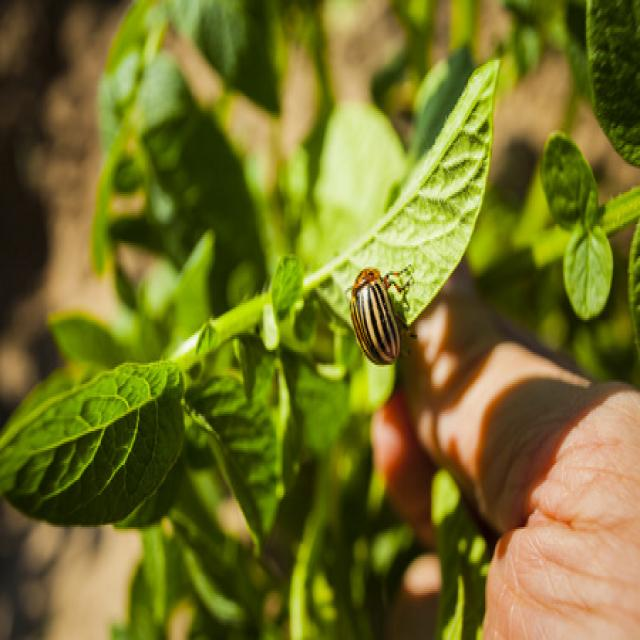ShuCaiHuaBanChong-Grown-: (339, 260, 408, 381)
